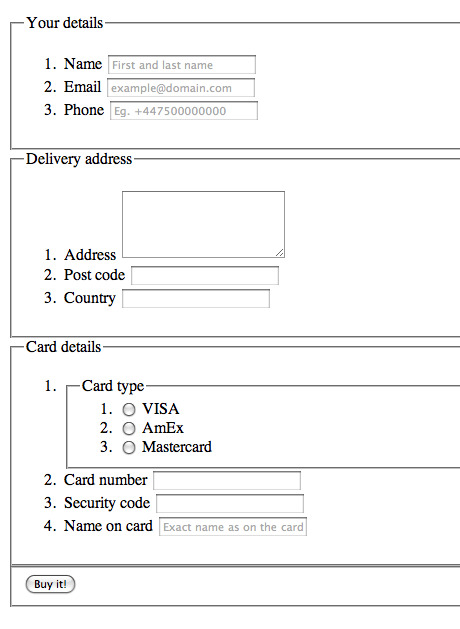_form_: (3, 213, 419, 629), (1, 1, 416, 416)
button: (25, 571, 79, 596)
field: (119, 190, 285, 260), (116, 285, 276, 311), (153, 515, 309, 538), (103, 77, 257, 100), (148, 470, 302, 493), (104, 52, 257, 75), (125, 265, 280, 287), (151, 493, 304, 515), (105, 100, 258, 121)
field_with_label: (65, 188, 287, 262), (65, 468, 306, 495), (63, 515, 312, 540), (63, 492, 306, 517), (63, 284, 277, 312), (63, 49, 259, 78), (65, 263, 281, 288), (63, 74, 259, 101), (64, 98, 261, 123)
radio: (123, 418, 139, 437), (123, 438, 140, 455), (122, 402, 139, 416)
radio_with_label: (118, 438, 212, 457), (119, 418, 183, 440), (118, 400, 180, 419)
